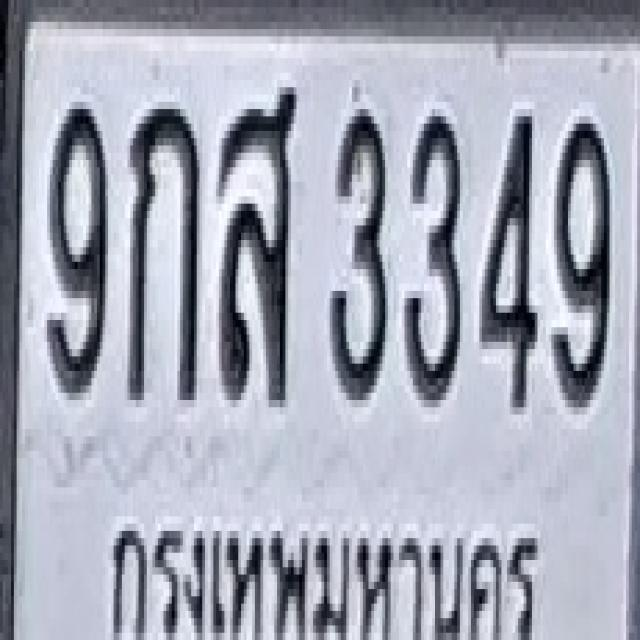-: (216, 80, 297, 400), (126, 102, 198, 400)
3: (328, 102, 386, 400), (404, 109, 460, 400)
4: (481, 109, 536, 407)
9: (47, 98, 105, 396), (553, 116, 608, 408)
